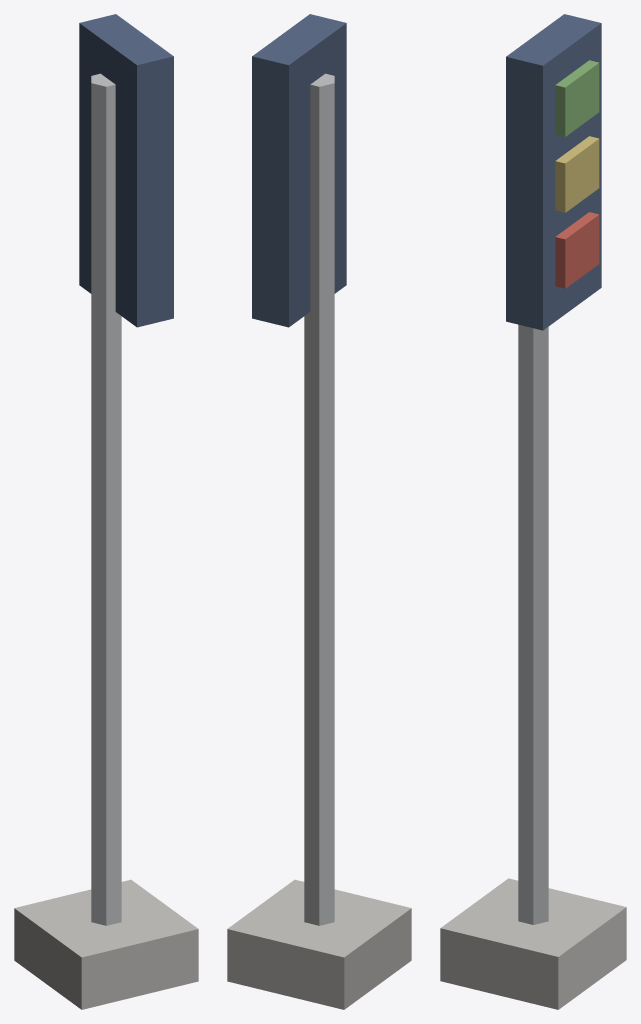
The model's file is 17_street_props-07.glb.
3 views of the same model, side by side, from view 1: azimuth 30°, elevation 25°; view 2: azimuth 150°, elevation 25°; view 3: azimuth 330°, elevation 25° (orthographic).
Bounding box in the file's own units: 0.7 × 5.3 × 0.7.
